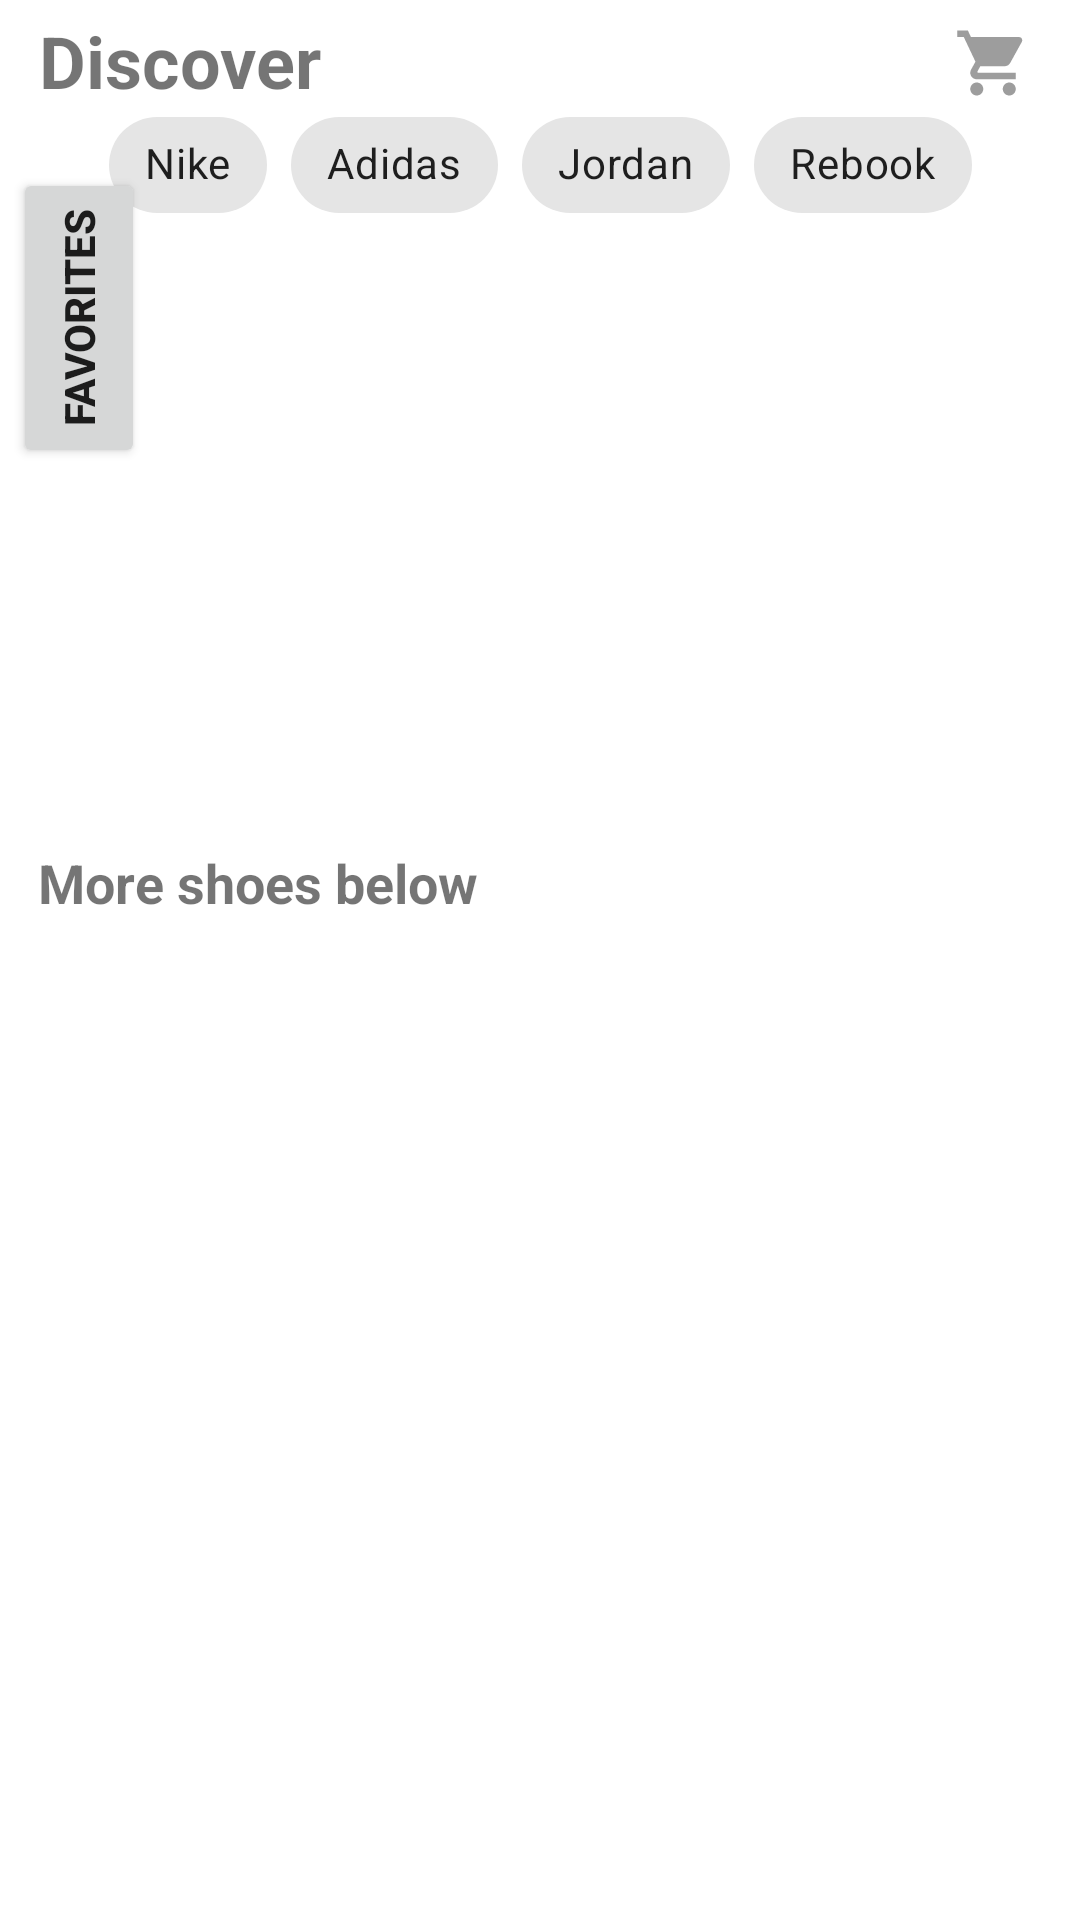

Named icons in this screenshot (1080w x 1920h) and their bounding boxes, [x1, y1, x2, y2]:
shopping cart: [957, 30, 1023, 96]
